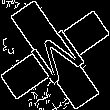M_SE: (22, 21, 88, 89)
